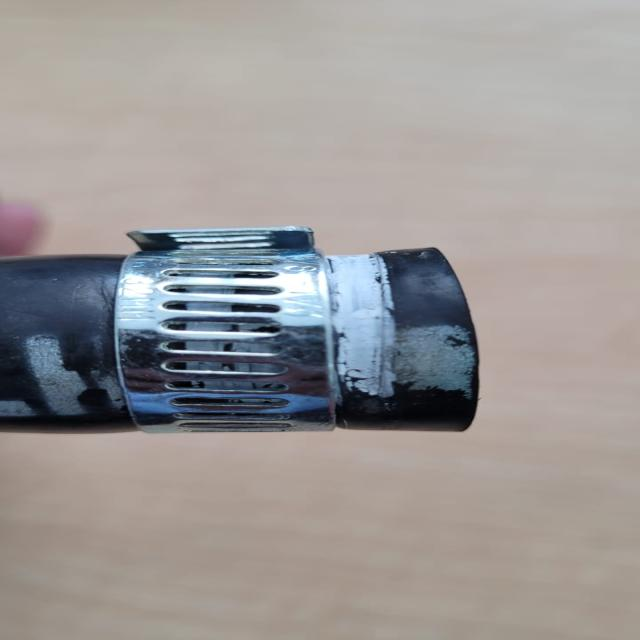clamp: (102, 224, 337, 436)
pipe: (330, 247, 476, 432)
